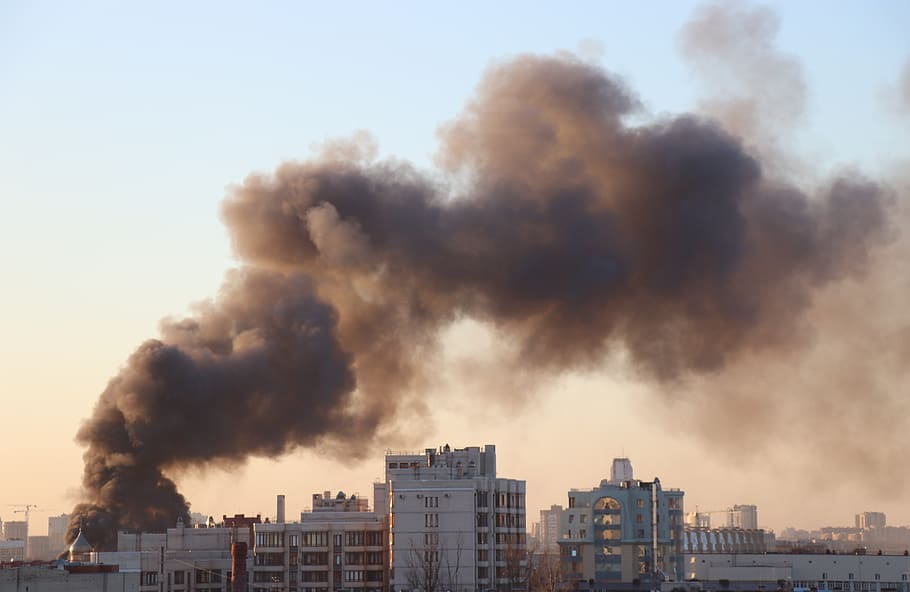smoke: (77, 49, 903, 478)
